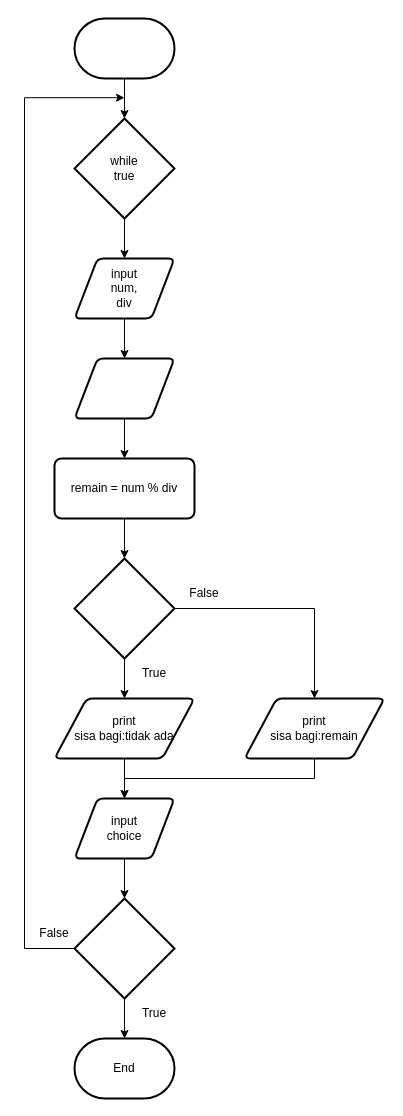
Image size: 403x1116. Some labels were removed from this diagram. The centre of each missing label's shape, as x and y in pixels:
"choice == 'N'" belongs at (x=124, y=948).
"print num, div" belongs at (x=124, y=388).
"remain == 0" belongs at (x=124, y=608).
"Start" belongs at (x=124, y=48).
